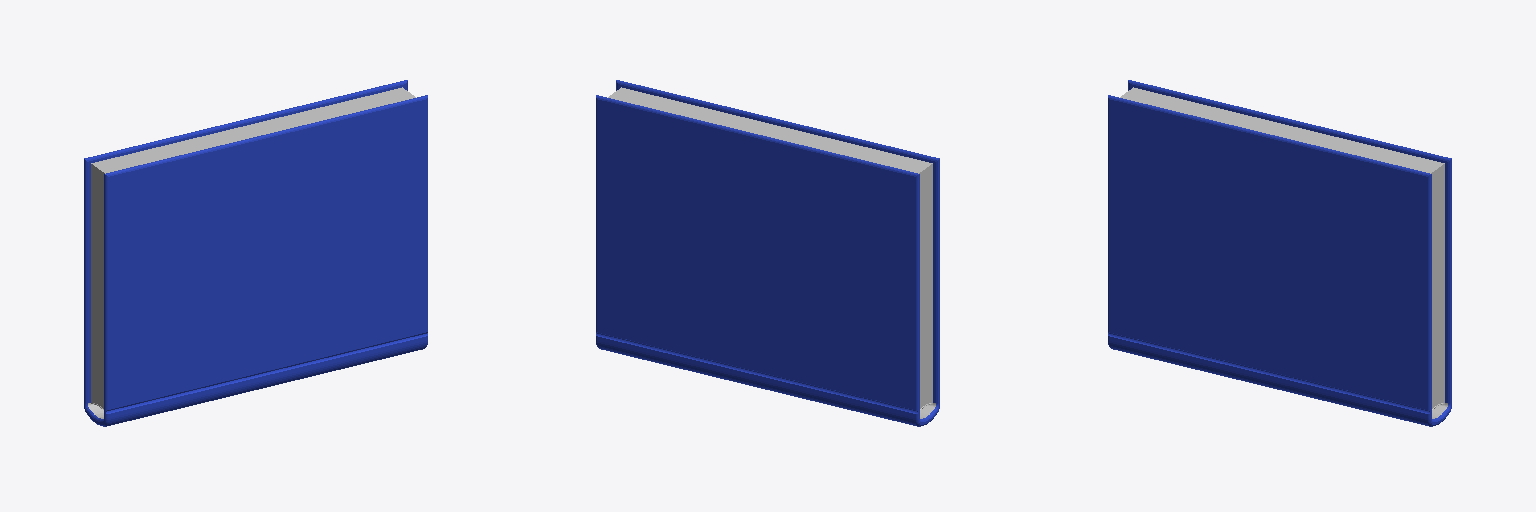
Rendered from book.obj.
3 views of the same model, side by side, from view 1: azimuth 30°, elevation 25°; view 2: azimuth 150°, elevation 25°; view 3: azimuth 330°, elevation 25° (orthographic).
Visible parts, largest first — view 1: Object_3.003; view 2: Object_3.003; view 3: Object_3.003.
Boxes of the visible parts, box(x1,y1,x2,y2) form: Object_3.003: box(84, 80, 427, 426); Object_3.003: box(596, 80, 939, 426); Object_3.003: box(1108, 80, 1451, 426).
Bounding box in the file's own units: 0.393 × 0.2996 × 0.049.